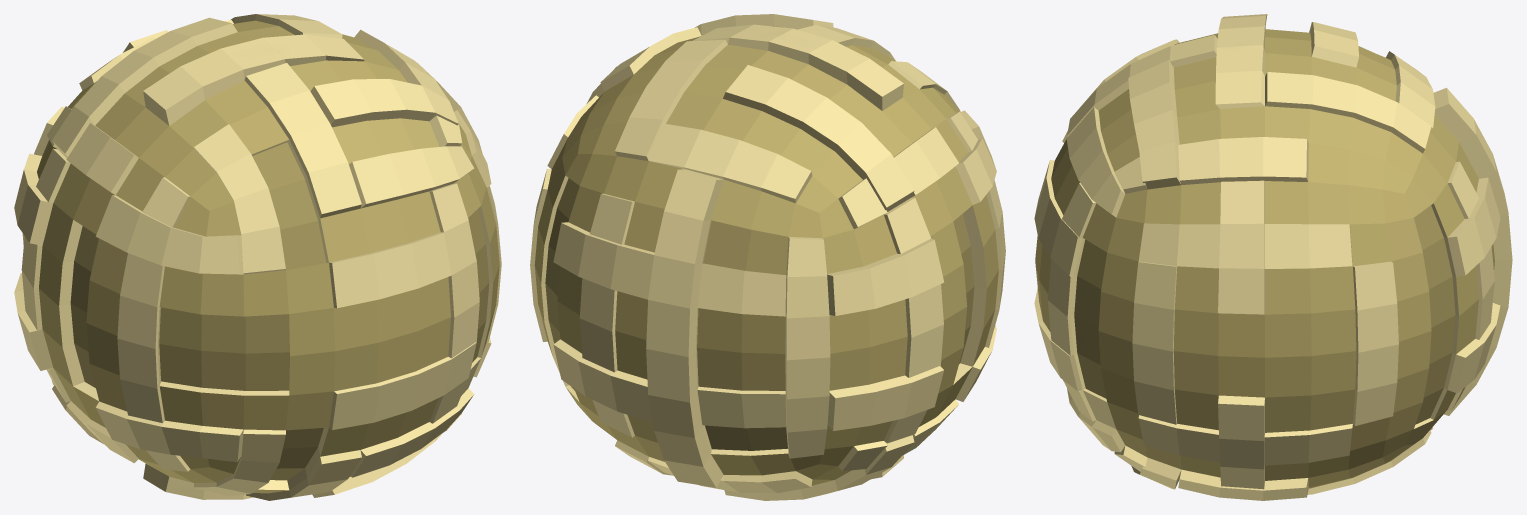
File: minichef_props_queso_bola.fbx
The picture shows the model from 3 angles, left to right: view 1: azimuth 30°, elevation 25°; view 2: azimuth 150°, elevation 25°; view 3: azimuth 270°, elevation 25°; orthographic projection.
Visible parts, largest first — view 1: Queso_bola; view 2: Queso_bola; view 3: Queso_bola.
Part boxes in pixels (<box>): Queso_bola: <box>14,14,501,500</box>; Queso_bola: <box>530,14,1005,500</box>; Queso_bola: <box>1034,14,1512,500</box>.
Size of the model in its own units: 358 by 364 by 365.
